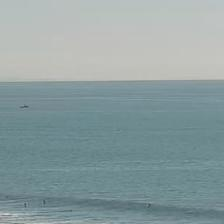surfer: (23, 202, 27, 207), (43, 199, 46, 205), (67, 209, 73, 212), (147, 204, 151, 208), (6, 196, 9, 198)
